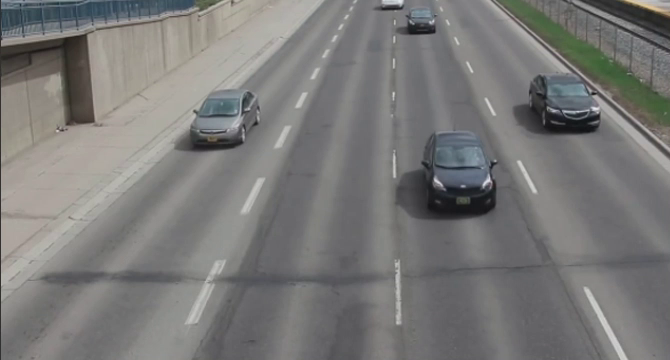car: (416, 127, 504, 219), (187, 84, 266, 148), (526, 69, 605, 133), (403, 6, 441, 38)
